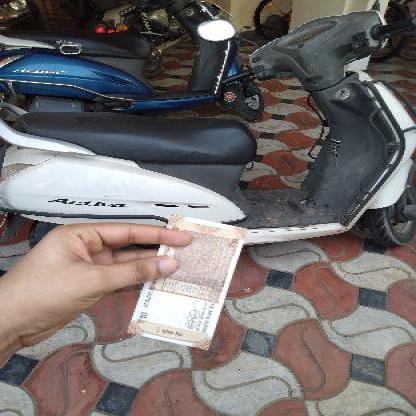New10Back: (130, 214, 250, 352)
